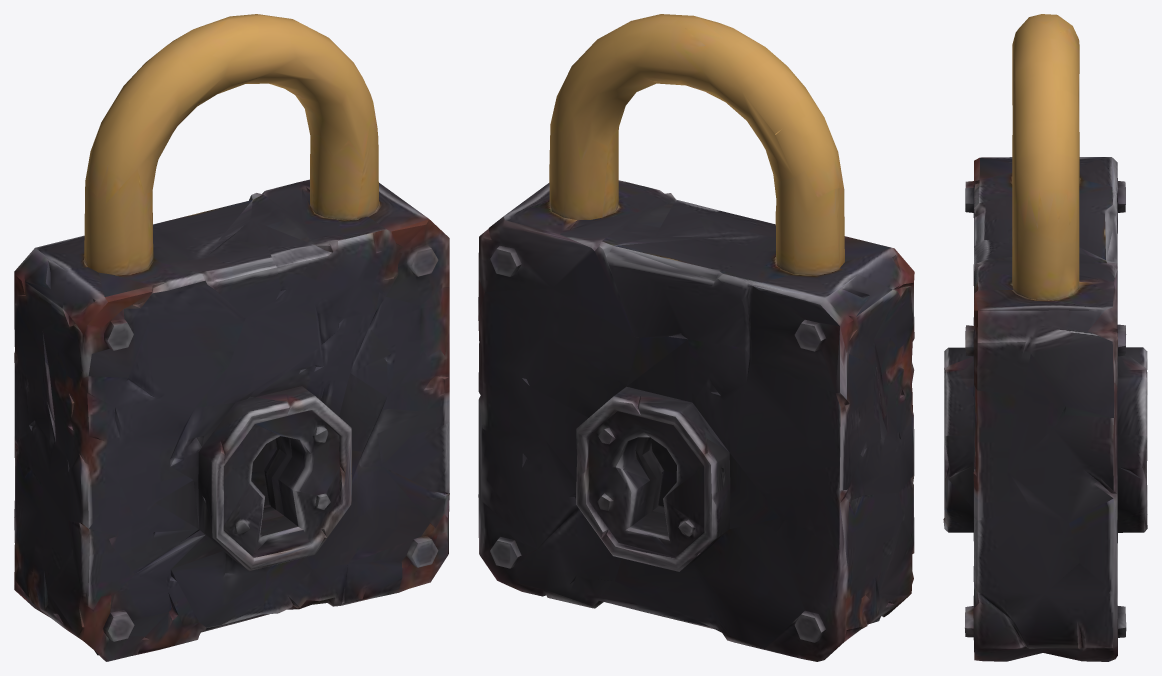
File: lock_padlock_navesnoy_idle.glb
3 renders of one model, left to right at view 1: azimuth 30°, elevation 25°; view 2: azimuth 150°, elevation 25°; view 3: azimuth 270°, elevation 25°, orthographic. The views are drawn at different scales.
Visible parts, largest first — view 1: tripo_node_eece9105-e6e5-4407-8627-390ec45c50f9; view 2: tripo_node_eece9105-e6e5-4407-8627-390ec45c50f9; view 3: tripo_node_eece9105-e6e5-4407-8627-390ec45c50f9.
Part boxes in pixels (<box>): tripo_node_eece9105-e6e5-4407-8627-390ec45c50f9: <box>14,14,449,661</box>; tripo_node_eece9105-e6e5-4407-8627-390ec45c50f9: <box>478,14,914,661</box>; tripo_node_eece9105-e6e5-4407-8627-390ec45c50f9: <box>943,14,1147,661</box>.
Bounding box in the file's own units: 0.0663 × 0.1002 × 0.033.
1 material, 1 textured.
